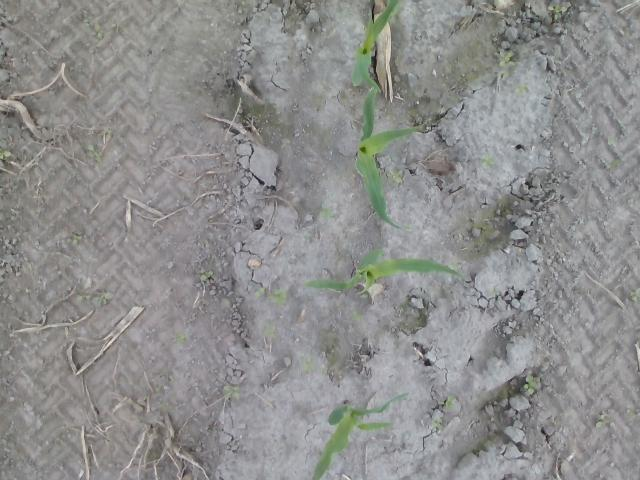Maize: (354, 84, 416, 228), (312, 392, 408, 480), (304, 248, 464, 294), (352, 0, 399, 87)
Weeds: (255, 286, 287, 305), (522, 374, 539, 396), (223, 383, 241, 400), (548, 2, 568, 17), (498, 50, 514, 68), (92, 292, 112, 305), (388, 168, 403, 184), (87, 143, 100, 161), (480, 154, 495, 169), (430, 416, 444, 432), (66, 233, 84, 245), (198, 270, 215, 282), (445, 395, 457, 412), (90, 23, 102, 40), (594, 413, 604, 428), (630, 286, 640, 300), (514, 84, 526, 95), (322, 208, 332, 221), (0, 149, 10, 160), (262, 324, 272, 335), (174, 333, 184, 341), (353, 312, 363, 320)
